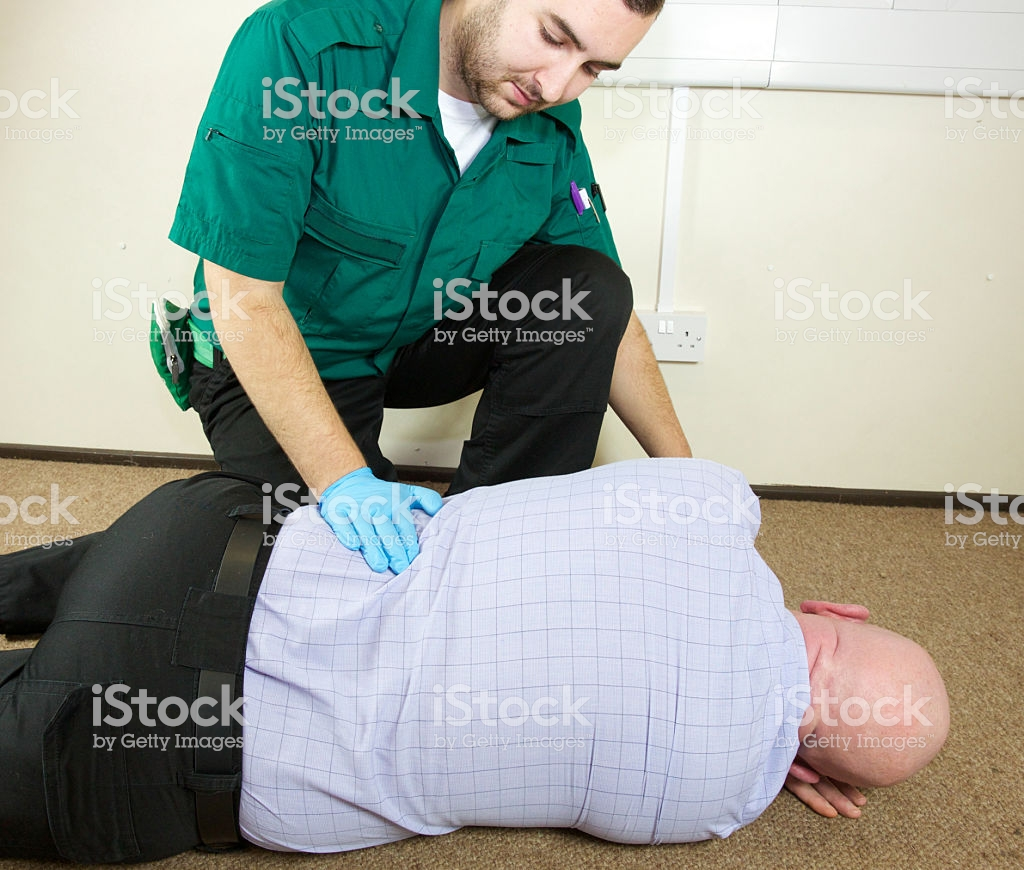collapsed: (5, 419, 1024, 865)
